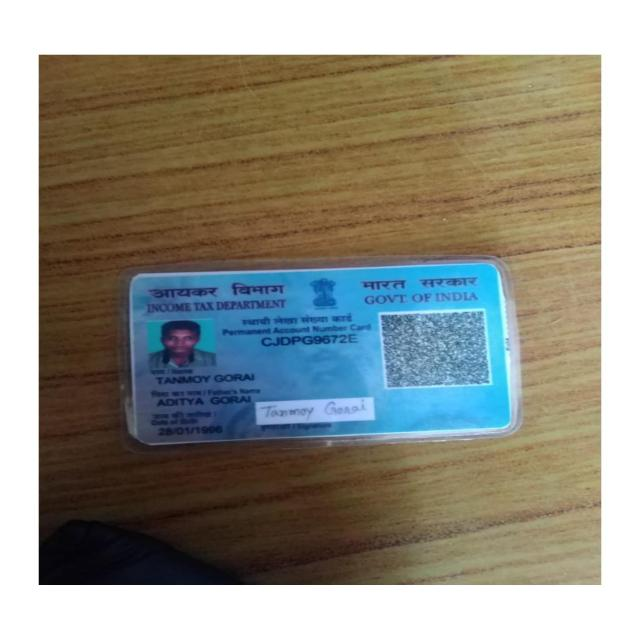pan_card: (129, 265, 507, 442)
